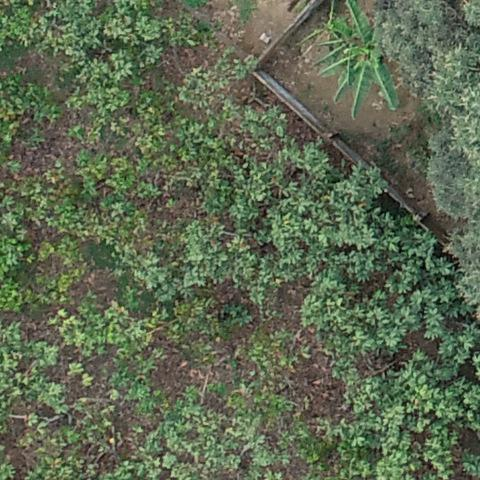Banana-plant: (324, 6, 409, 109), (300, 4, 356, 53)
